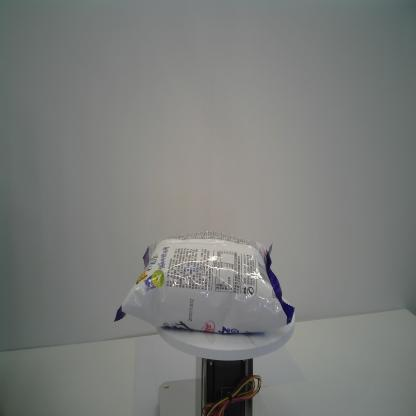Puffed Food: (113, 228, 295, 335)
